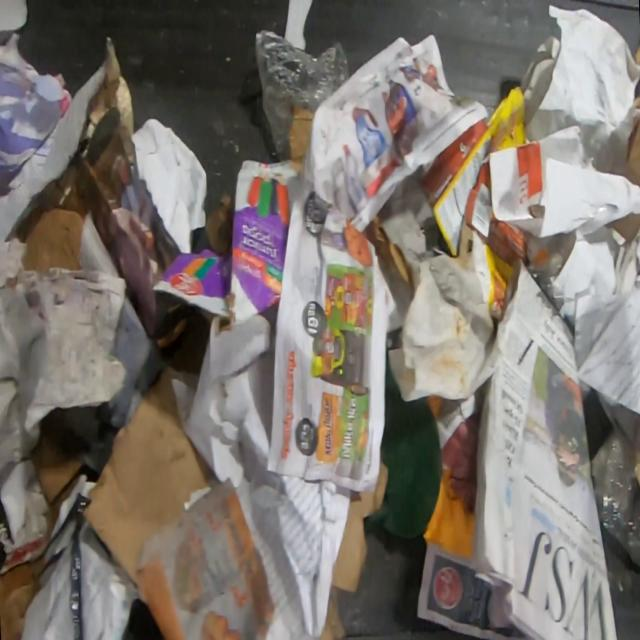cardboard: (83, 308, 219, 588), (416, 85, 552, 322), (152, 159, 301, 324), (0, 426, 86, 640), (318, 460, 389, 640), (23, 156, 94, 275), (286, 99, 314, 174)
rigid_plastic: (35, 492, 99, 640), (589, 429, 640, 570)
soft_plastic: (253, 28, 352, 163)
